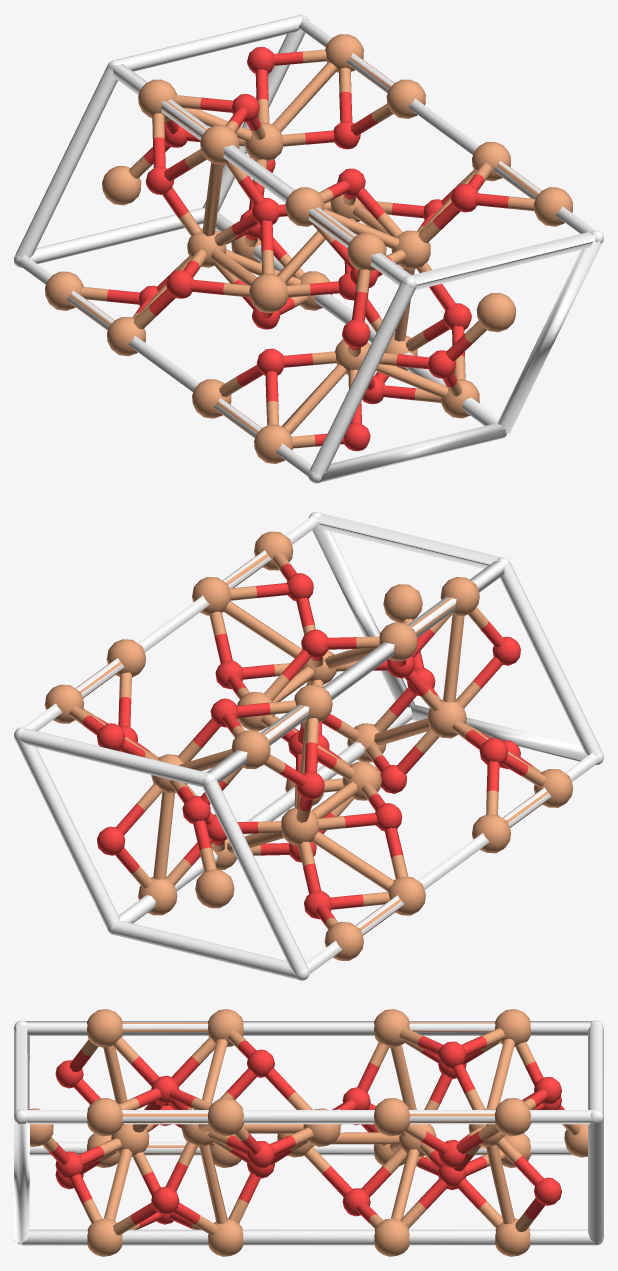
File: hermatita.fbx
The picture shows the model from 3 angles, top to bottom: view 1: azimuth 30°, elevation 25°; view 2: azimuth 150°, elevation 25°; view 3: azimuth 270°, elevation 25°; orthographic projection. The views are drawn at different scales.
Visible parts, largest first — view 1: Fe.001, limite.003, O; view 2: Fe.001, limite.003, O; view 3: Fe.001, limite.003, O.
Part boxes in pixels (box(x1,y1,x2,y2)): Fe.001: box(45, 34, 572, 463); limite.003: box(14, 14, 603, 483); O: box(107, 47, 509, 451); Fe.001: box(44, 531, 572, 960); limite.003: box(14, 512, 603, 980); O: box(82, 563, 533, 926); Fe.001: box(27, 1009, 587, 1256); limite.003: box(14, 1020, 603, 1245); O: box(48, 1036, 565, 1228).
Size of the model in its own units: 848 by 530 by 1415.
